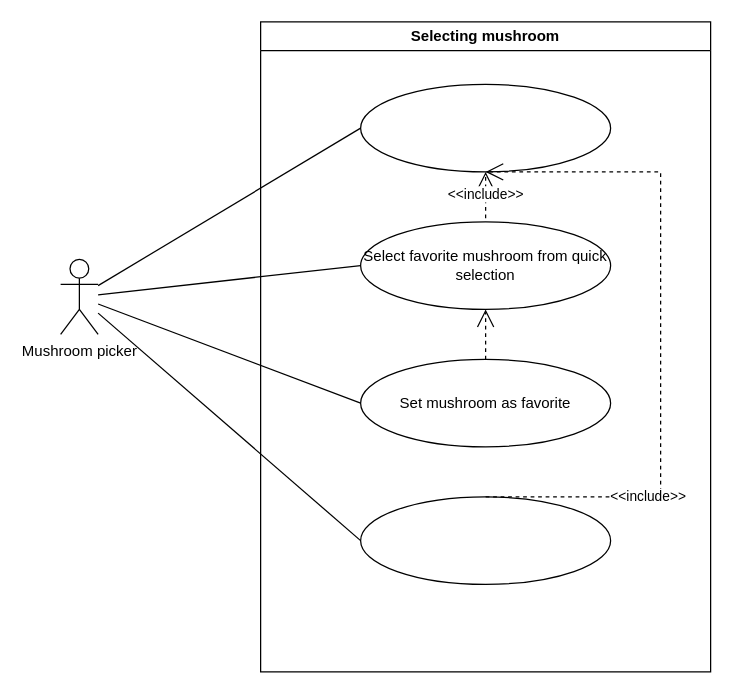
The diagram is 733 pixels wide and 694 high, and some of its shapes have lost their labels. The shapes that lost their labels are listed below. From the top down, each one's centre as x and y in pixels, then its label:
At point 485,127: "Selecting mushrooms for the map".
At point 485,540: "Find mushroom on Mushroom page".
